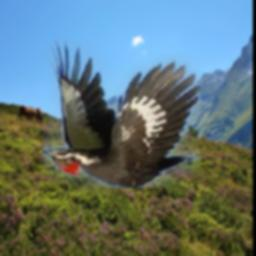Woodpecker: (43, 37, 201, 189)
